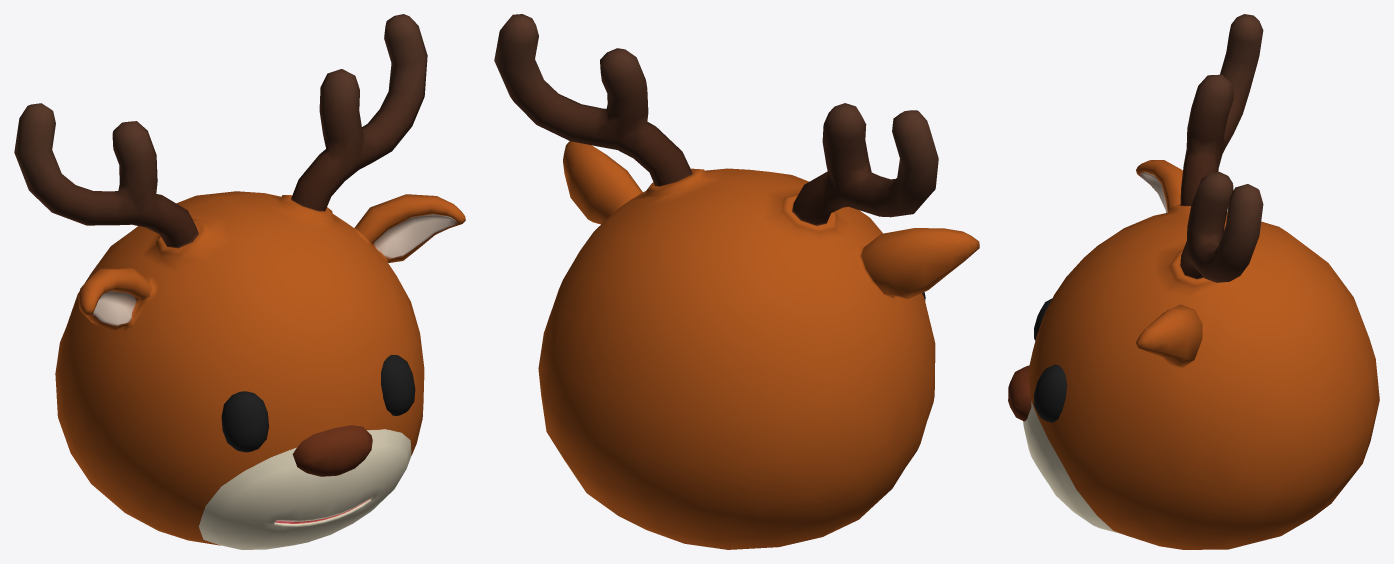
The model's file is DeerHead.FBX.
The picture shows the model from 3 angles, left to right: view 1: azimuth 30°, elevation 25°; view 2: azimuth 150°, elevation 25°; view 3: azimuth 270°, elevation 25°; orthographic projection. The views are drawn at different scales.
Visible parts, largest first — view 1: DeerHead; view 2: DeerHead; view 3: DeerHead.
Boxes of the visible parts, bbox=[...] form: DeerHead: bbox=[14, 14, 465, 549]; DeerHead: bbox=[494, 14, 979, 549]; DeerHead: bbox=[1008, 14, 1379, 549].
Bounding box in the file's own units: 52.84 × 55.18 × 43.66.
4 materials, 4 textured.
